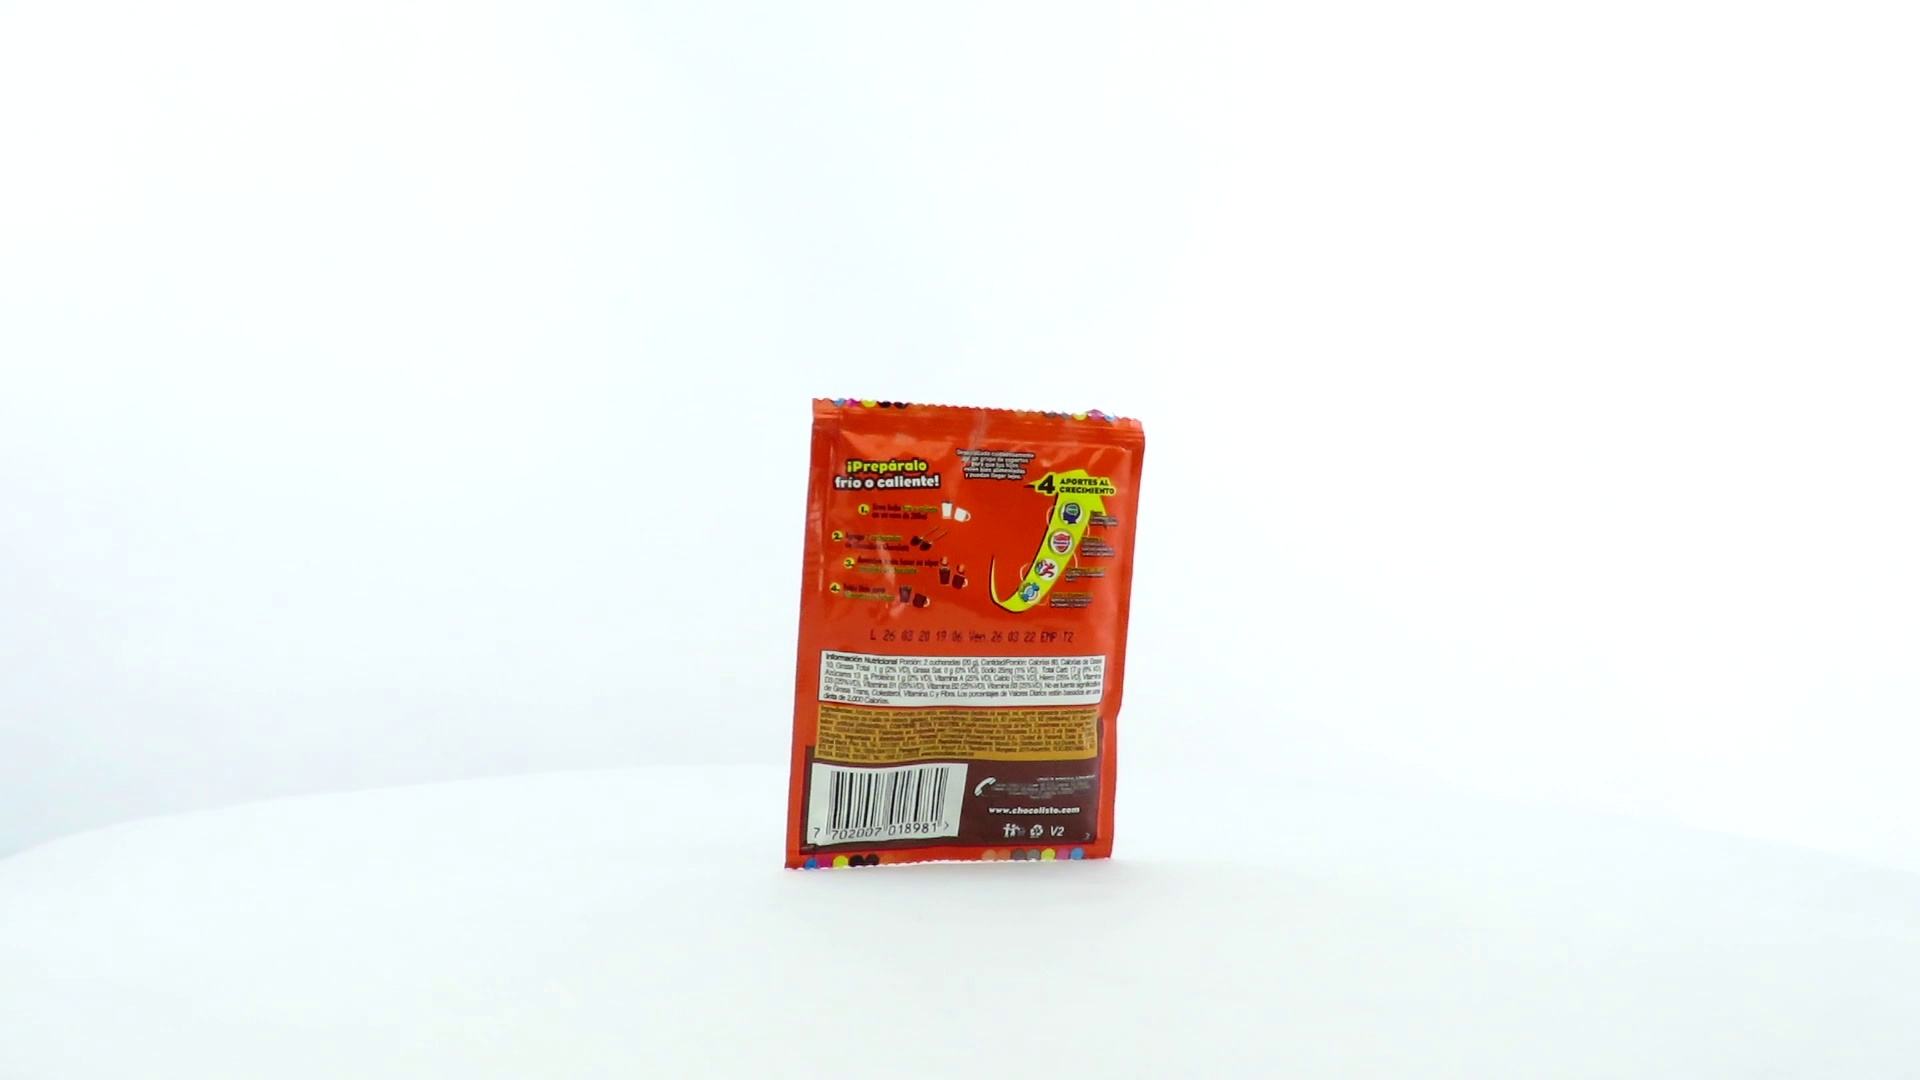COL0170103SOB02000: (779, 393, 1153, 876)
